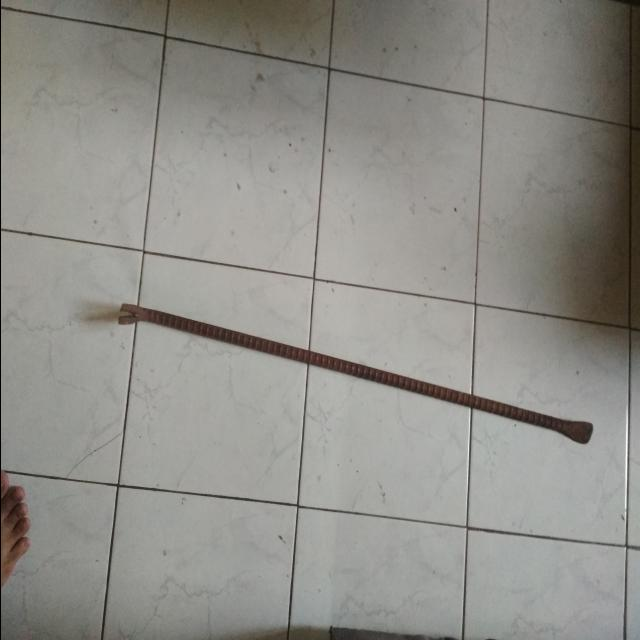Linggis: (121, 301, 595, 447)
